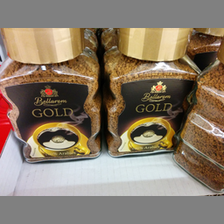coffee: (1, 28, 104, 162), (105, 27, 199, 158)
